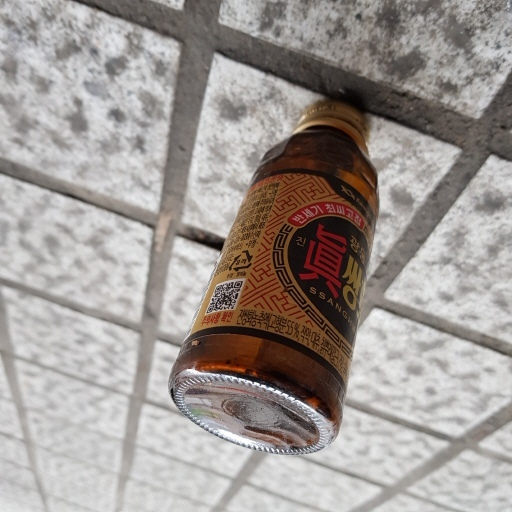Glass_3: (158, 98, 383, 457)
